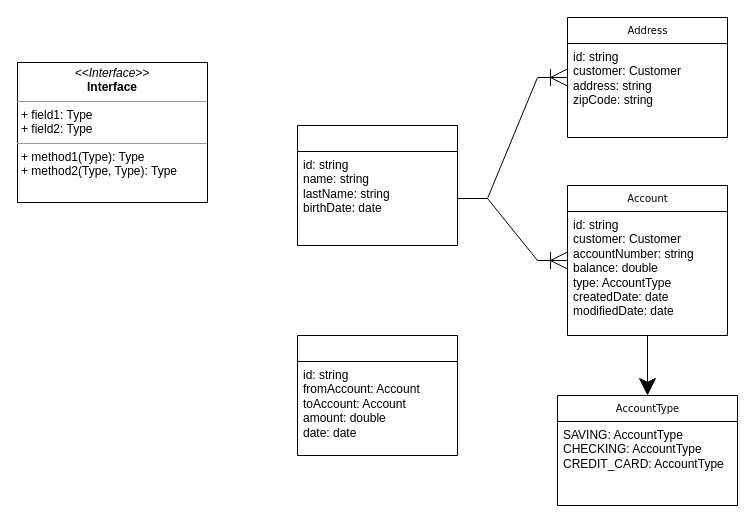
The diagram is 755 pixels wide and 526 high, and some of its shapes have lost their labels. The box of each missing label's shape, as (x1, y1, x2, y2) in pixels:
Customer: (296, 124, 458, 246)
Transaction: (296, 334, 458, 456)
